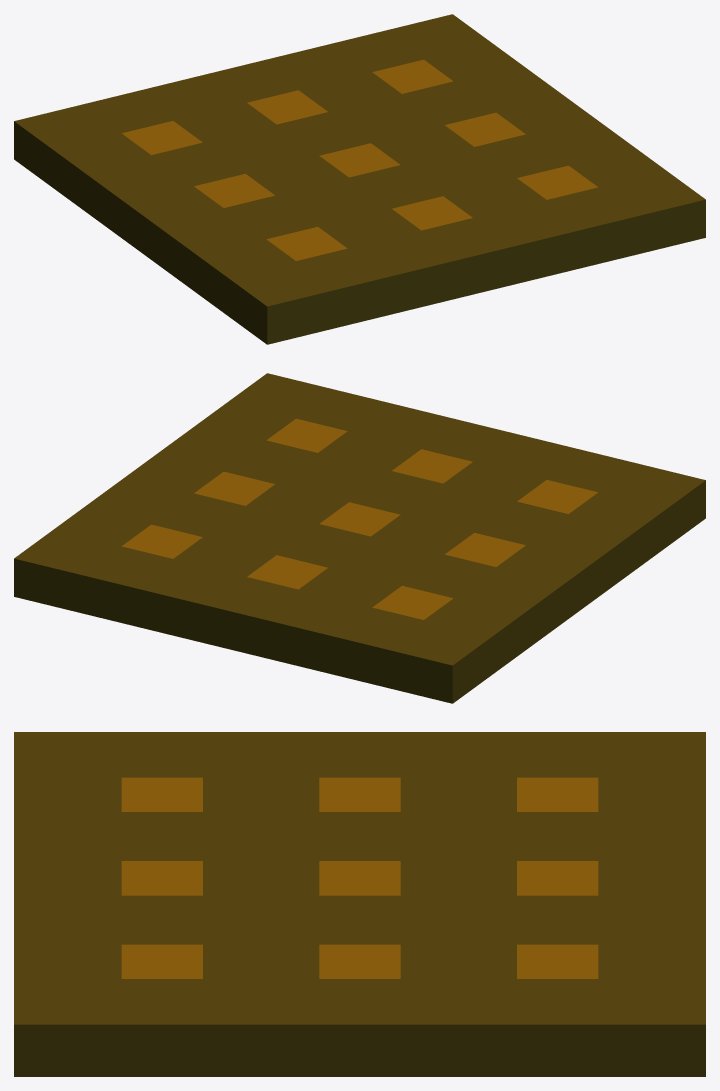
Rendered from checkeredbrown.glb.
The picture shows the model from 3 angles, top to bottom: view 1: azimuth 30°, elevation 25°; view 2: azimuth 150°, elevation 25°; view 3: azimuth 270°, elevation 25°; orthographic projection. The views are drawn at different scales.
Parts seen in each view (by area): view 1: citytiles; view 2: citytiles; view 3: citytiles.
Boxes of the visible parts, box(x1,y1,x2,y2) form: citytiles: box(14, 14, 705, 344); citytiles: box(14, 373, 705, 703); citytiles: box(14, 732, 705, 1076).
Size of the model in its own units: 12 by 1 by 12.
Materials: 1 (1 with a texture image).
